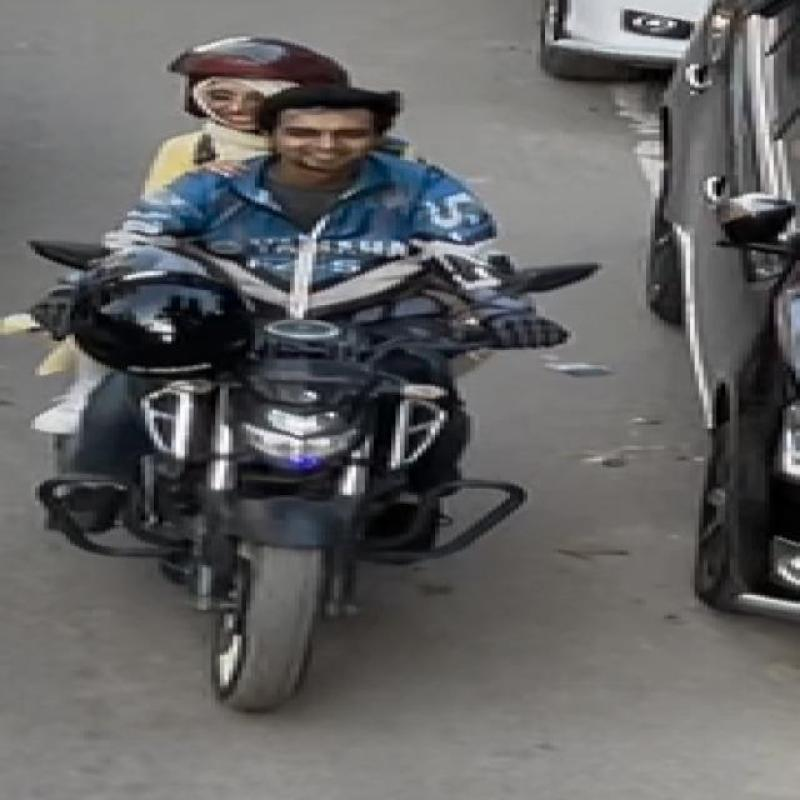nohelmet: (233, 90, 426, 184)
